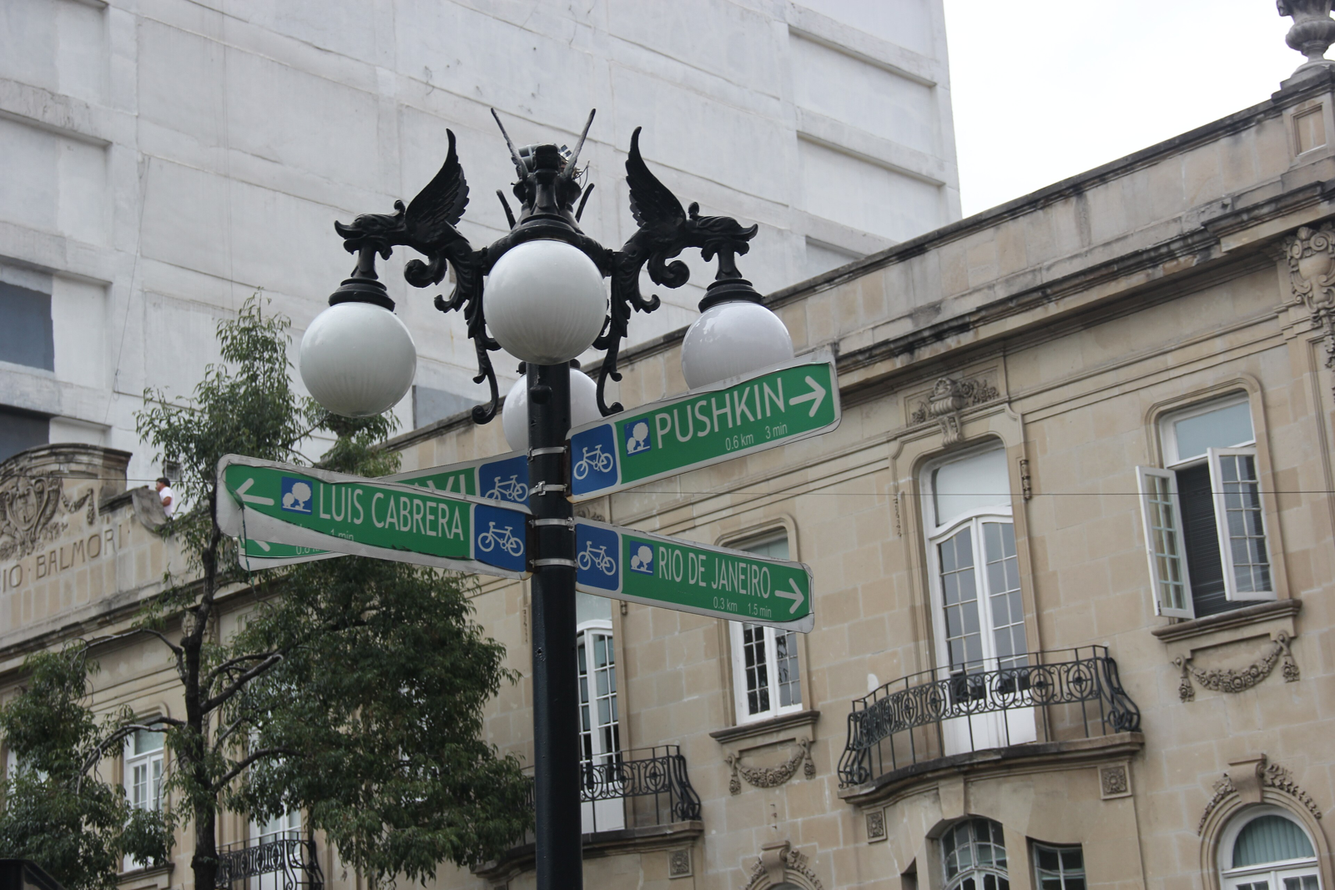fachada: (10, 92, 1335, 890)
poste: (313, 121, 778, 890)
